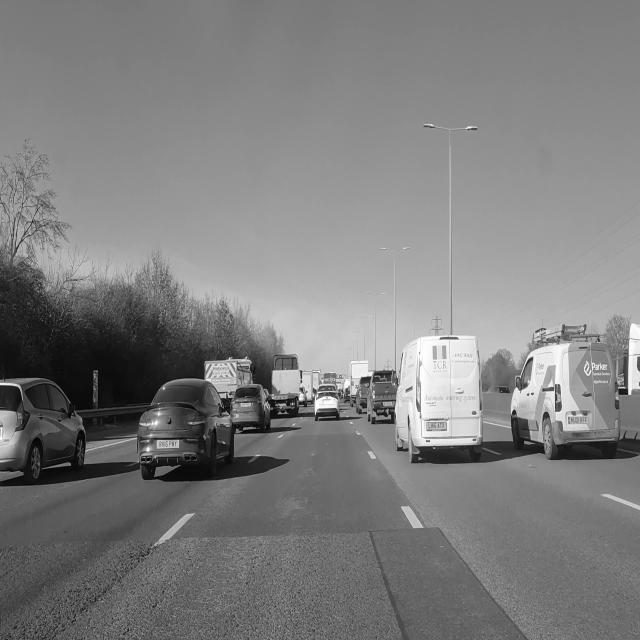car: (511, 325, 620, 459), (395, 336, 482, 463), (138, 379, 234, 479), (0, 379, 85, 483), (231, 384, 270, 431), (367, 371, 397, 423), (314, 384, 340, 421), (356, 376, 370, 414), (299, 386, 307, 407)
